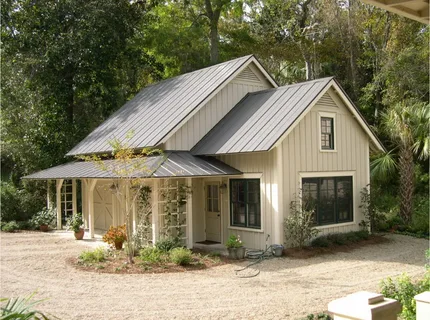private_hause: (69, 60, 382, 248)
